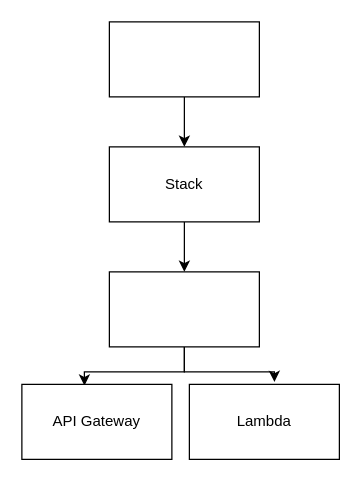
The diagram is 361 pixels wide and 481 high, and some of its shapes have lost their labels. The centre of each missing label's shape, as x and y in pixels:
APi-Gateway-Lambda Construct: (183,309)
CDK App: (183,59)
